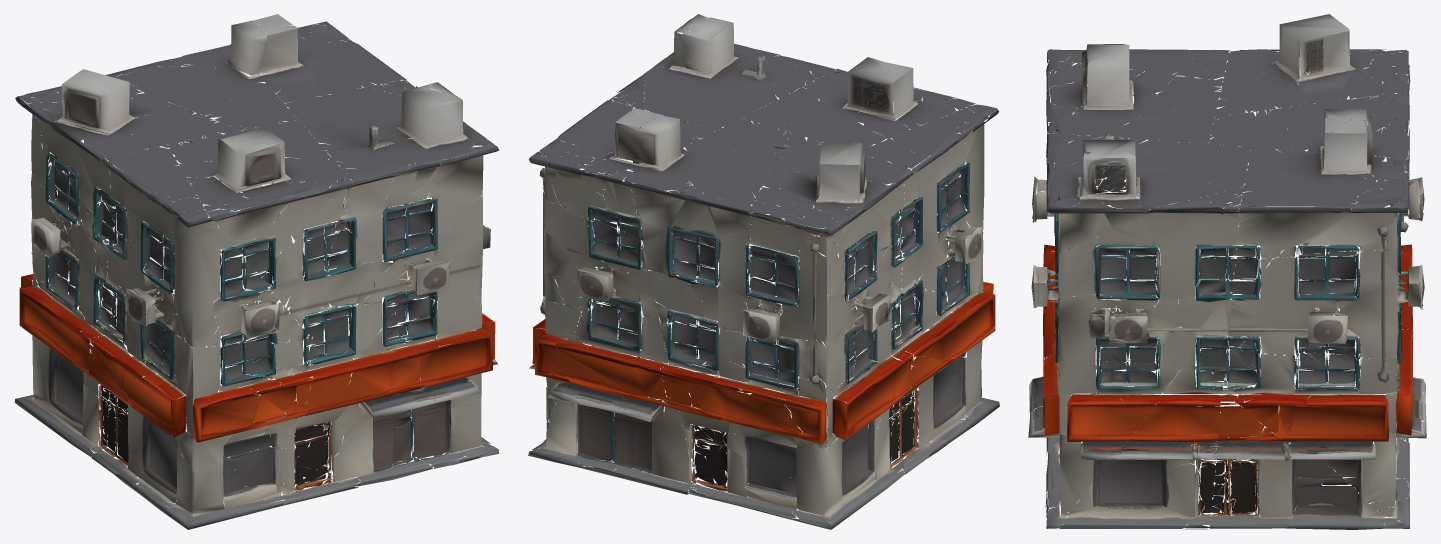
File: cyberpunk_corner_shophouse.glb
3 views of the same model, side by side, from view 1: azimuth 30°, elevation 25°; view 2: azimuth 150°, elevation 25°; view 3: azimuth 270°, elevation 25° (orthographic). The views are drawn at different scales.
Parts seen in each view (by area): view 1: tripo_node_01616006-aa14-4242-8a43-41ae57e99709; view 2: tripo_node_01616006-aa14-4242-8a43-41ae57e99709; view 3: tripo_node_01616006-aa14-4242-8a43-41ae57e99709.
Boxes of the visible parts, x1,y1,x2,y2 form: tripo_node_01616006-aa14-4242-8a43-41ae57e99709: [14, 14, 498, 529]; tripo_node_01616006-aa14-4242-8a43-41ae57e99709: [528, 14, 999, 529]; tripo_node_01616006-aa14-4242-8a43-41ae57e99709: [1028, 14, 1426, 529].
Size of the model in its own units: 9.59 by 9.23 by 9.17.
5 materials, 5 textured.
